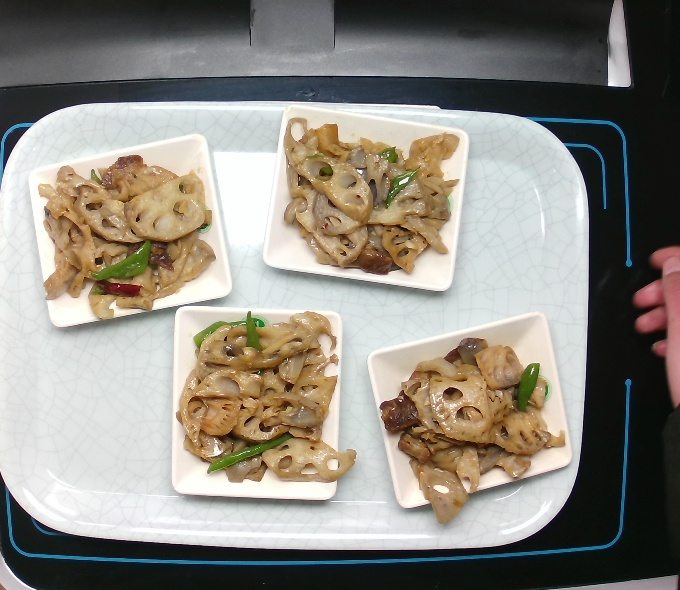wcq-OuPianChaoRou: (377, 330, 568, 523), (274, 112, 465, 290), (32, 152, 221, 324), (176, 312, 365, 484)
